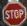Stop sign: (0, 1, 26, 25)
